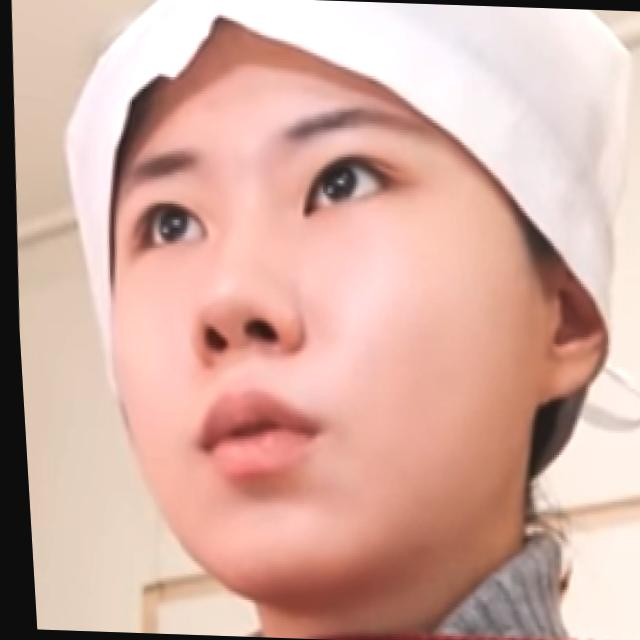face: (71, 28, 596, 612)
